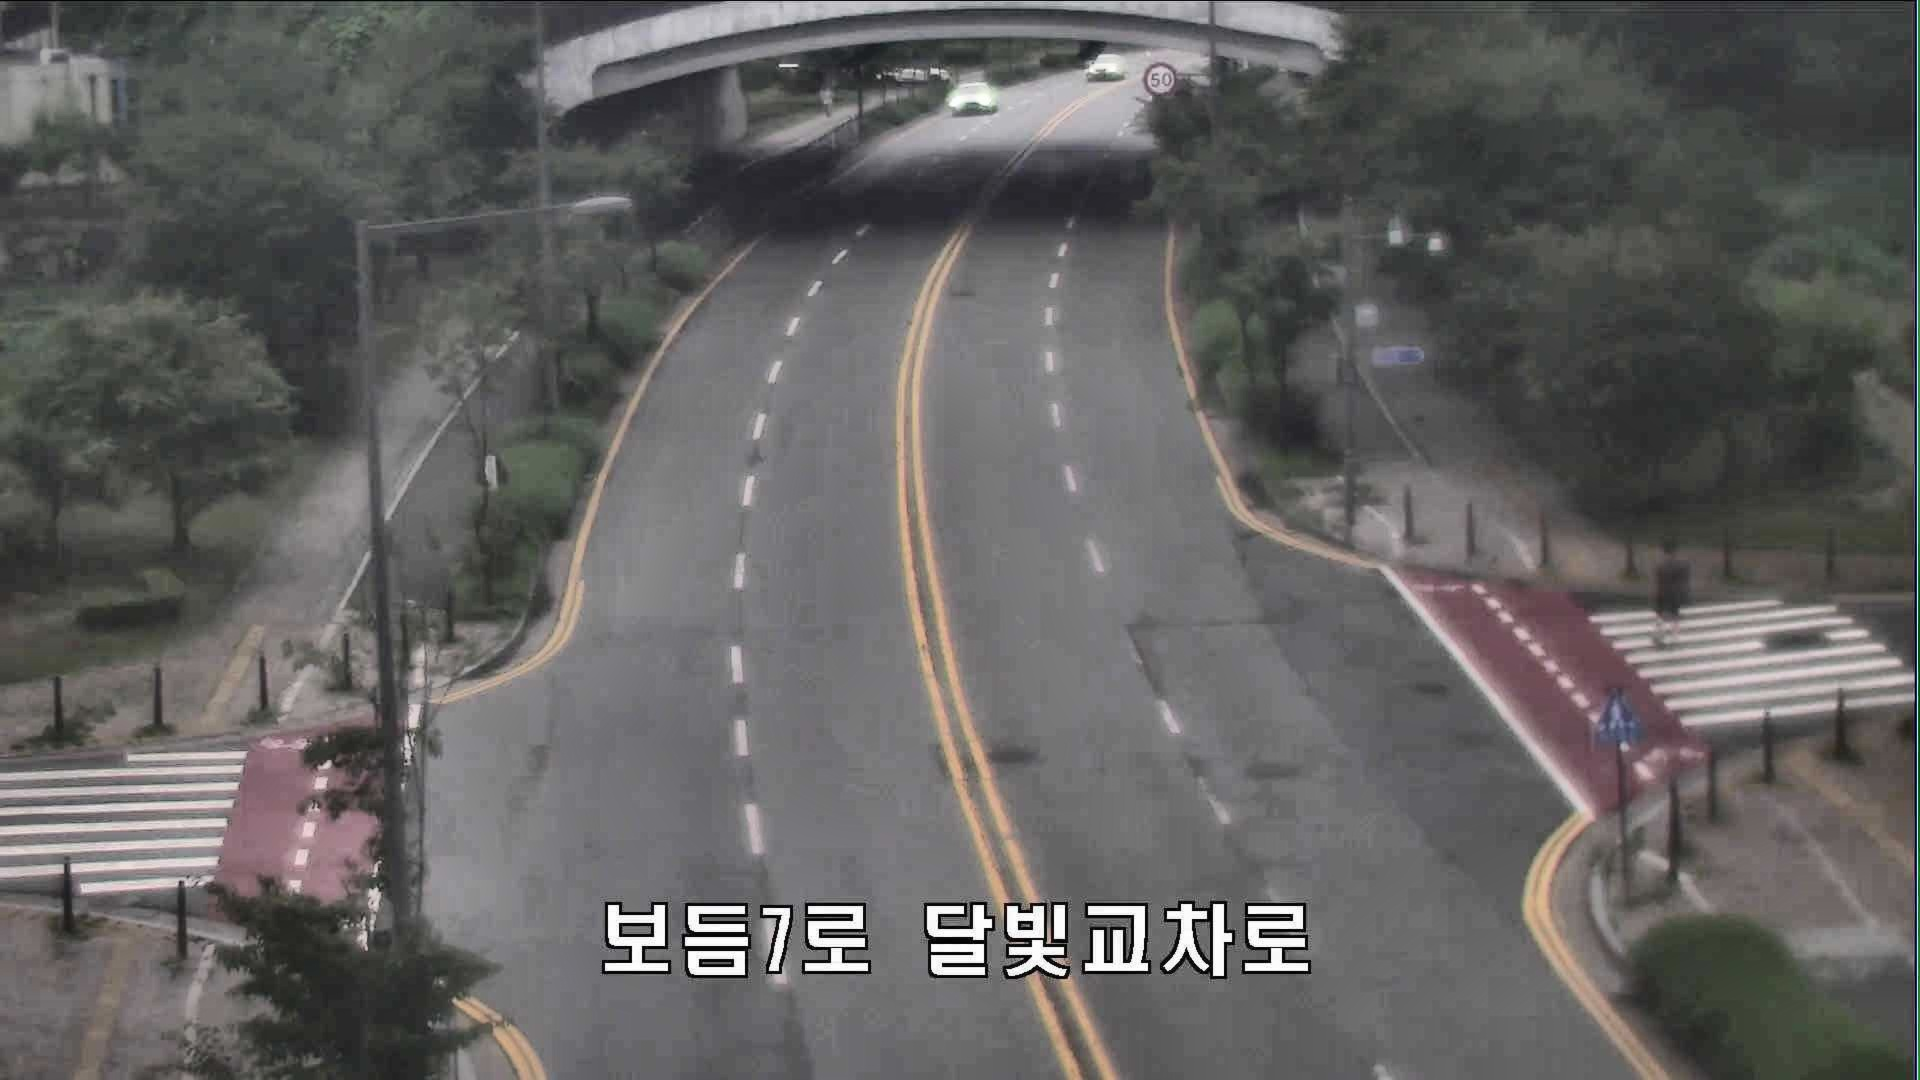crosswalk: (1646, 535, 1695, 651)
sidewalk: (818, 84, 835, 120)
